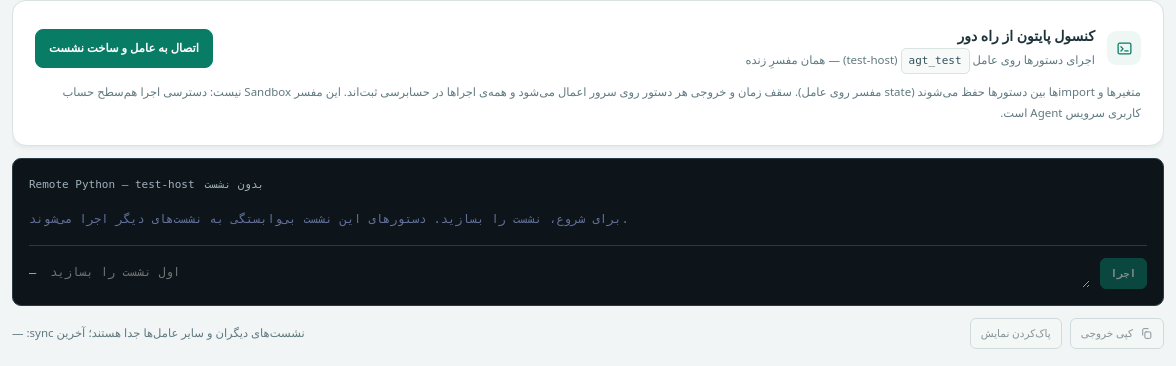
Test: clears an already missing or expired session after termination returns 404
This screenshot has width=1176, height=366.
Click the button "اتصال به عامل و ساخت نشست" at (124, 48), box [35,29,213,68]
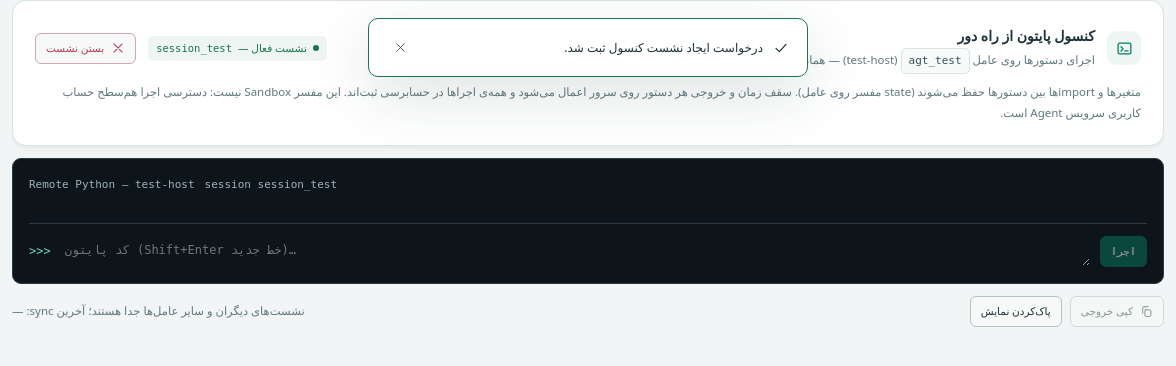
Click the button "بستن نشست" at (86, 48), box [35,33,136,64]
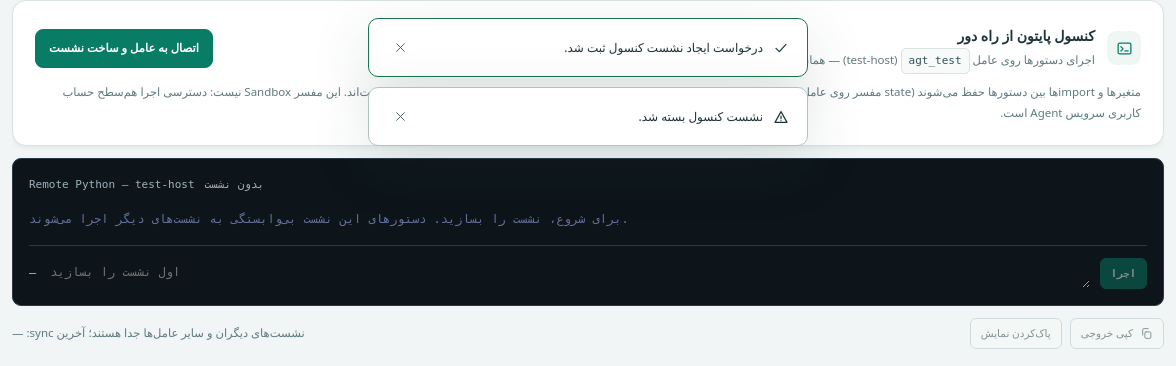
Result: the button "اتصال به عامل و ساخت نشست" is enabled at [35,29,213,68]
Result: the text box is disabled at [46,258,1090,288]
Result: the text "نشست کنسول بسته شد." is shown at [638,108,763,125]
